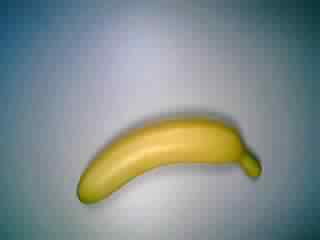banana: (65, 108, 273, 208)
